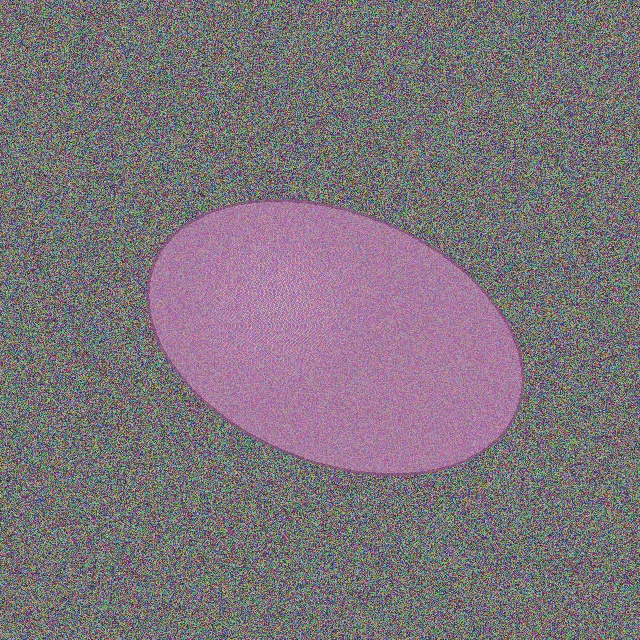lens: (147, 200, 523, 474)
